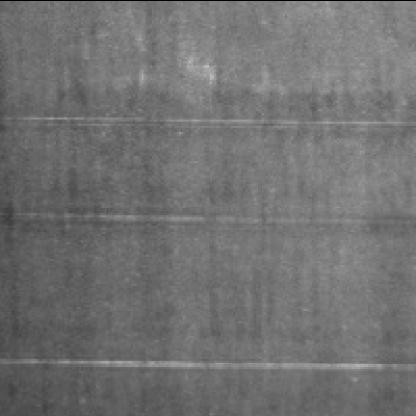scratches: (6, 352, 408, 380)
